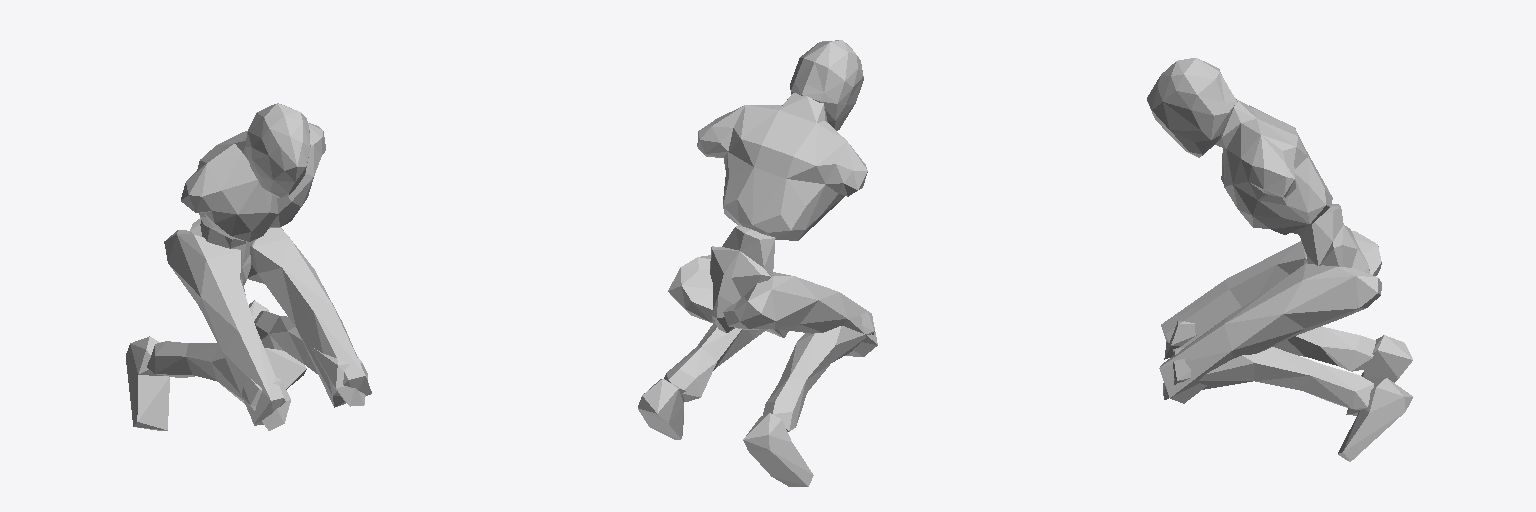
File: filth54.obj
The picture shows the model from 3 angles: view 1: azimuth 30°, elevation 25°; view 2: azimuth 150°, elevation 25°; view 3: azimuth 270°, elevation 25°; orthographic projection.
Visible parts, largest first — view 1: Melee_Husk; view 2: Melee_Husk; view 3: Melee_Husk.
Boxes of the visible parts, x1=… form: Melee_Husk: x1=126, y1=103, x2=371, y2=430; Melee_Husk: x1=638, y1=40, x2=877, y2=486; Melee_Husk: x1=1147, y1=58, x2=1412, y2=461.
Bounding box in the file's own units: 22.35 × 48.14 × 30.95.